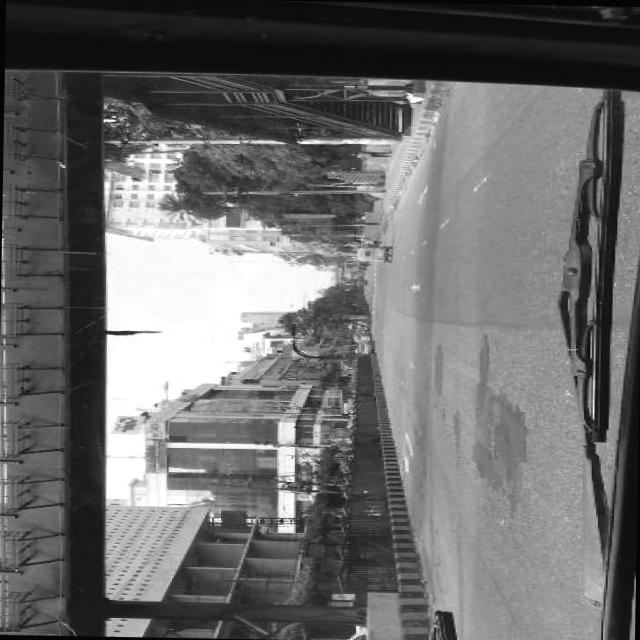bus: (338, 386, 351, 412), (341, 351, 353, 374)
car: (357, 338, 369, 351)
motorcycle: (355, 240, 385, 260), (356, 278, 366, 282)
truck: (352, 329, 368, 336)
